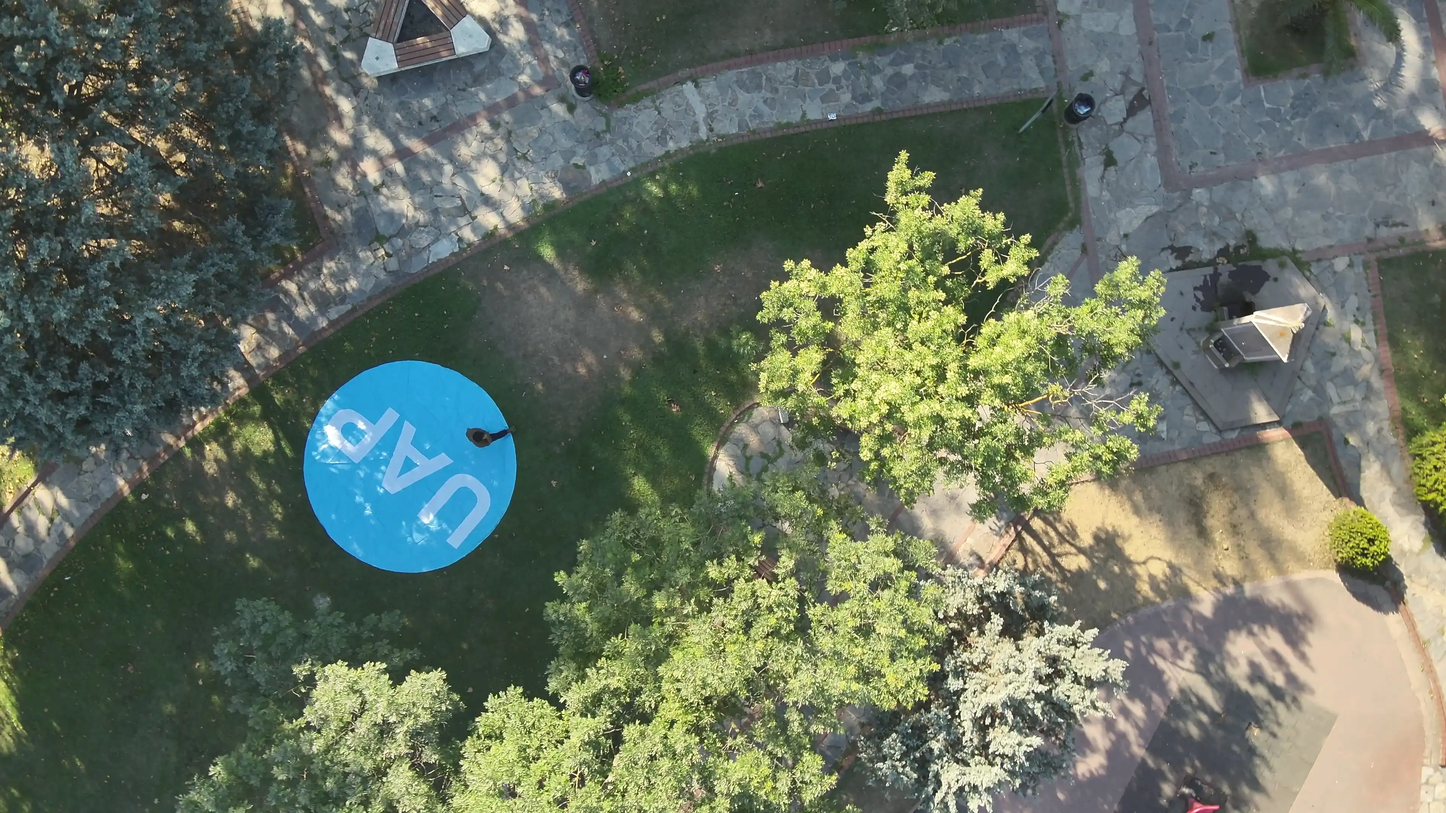UAP: (303, 360, 520, 581)
person: (463, 419, 527, 452)
